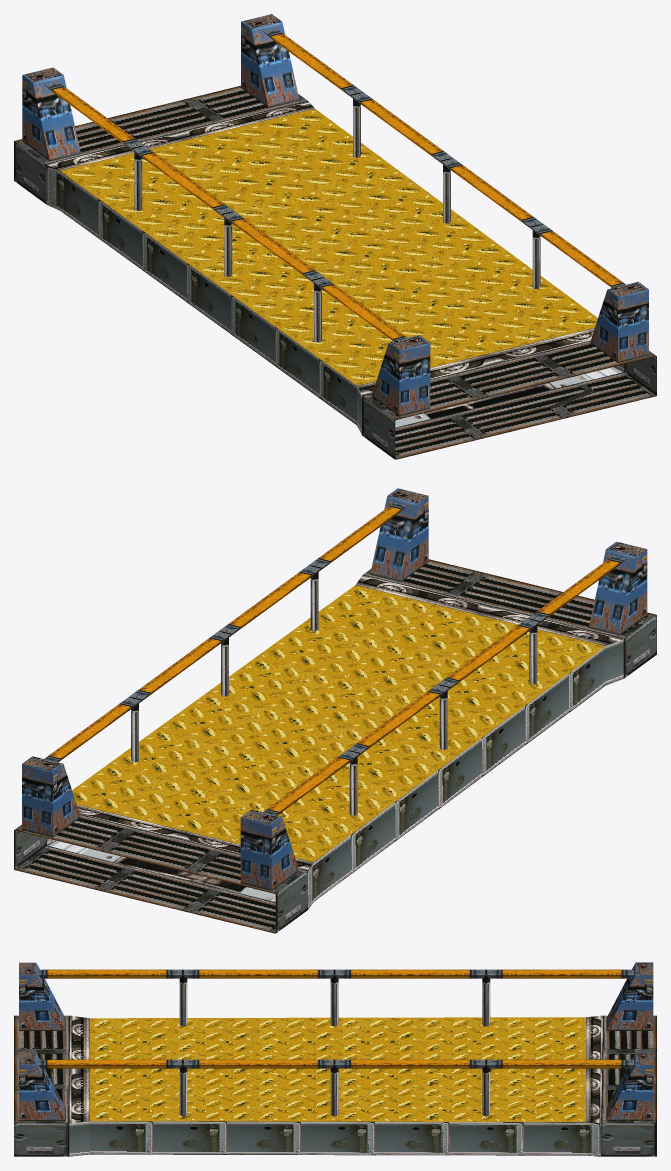
File: PathFlatSmall.obj
3 views of the same model, one above another, from view 1: azimuth 30°, elevation 25°; view 2: azimuth 150°, elevation 25°; view 3: azimuth 270°, elevation 25° (orthographic). The views are drawn at different scales.
Bounding box in the file's own units: 33.6 × 13 × 84.81.
Materials: 10 (10 with a texture image).
